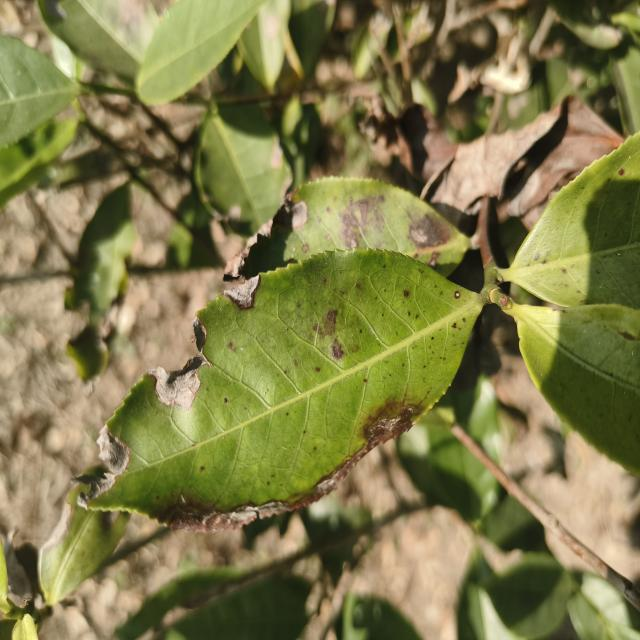Leaf: (85, 249, 483, 532), (225, 177, 471, 280), (501, 134, 640, 309), (507, 304, 640, 474), (117, 566, 310, 640), (65, 183, 137, 381), (136, 0, 265, 105), (194, 104, 292, 235), (421, 376, 502, 520), (38, 0, 158, 80), (0, 36, 79, 148), (485, 553, 572, 639), (457, 552, 522, 640), (0, 119, 77, 193), (568, 573, 640, 640), (237, 0, 290, 91)
